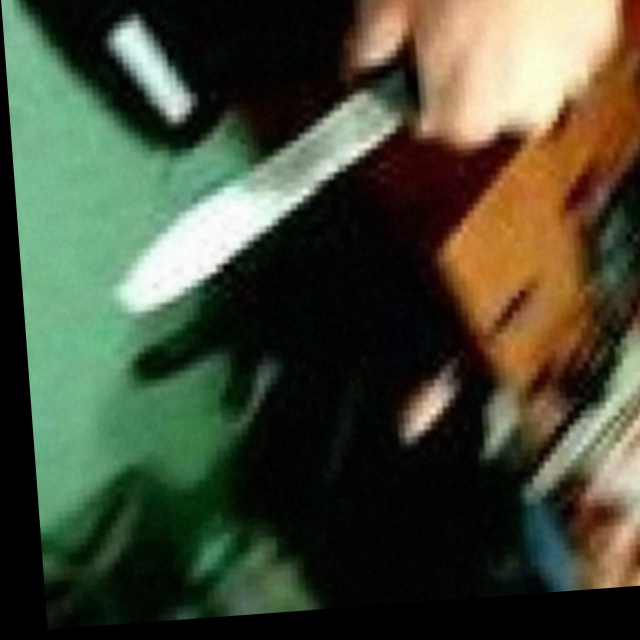Sharp-Object: (101, 62, 434, 318)
